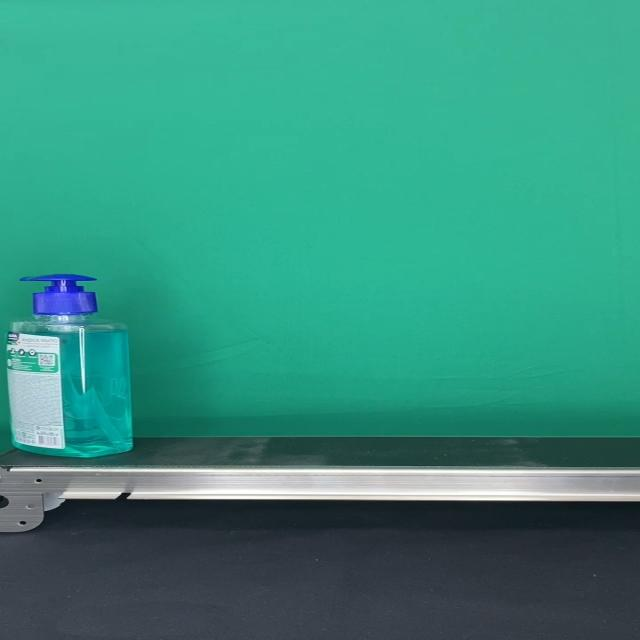Bottle: (5, 272, 134, 458)
Cap: (21, 272, 97, 314)
